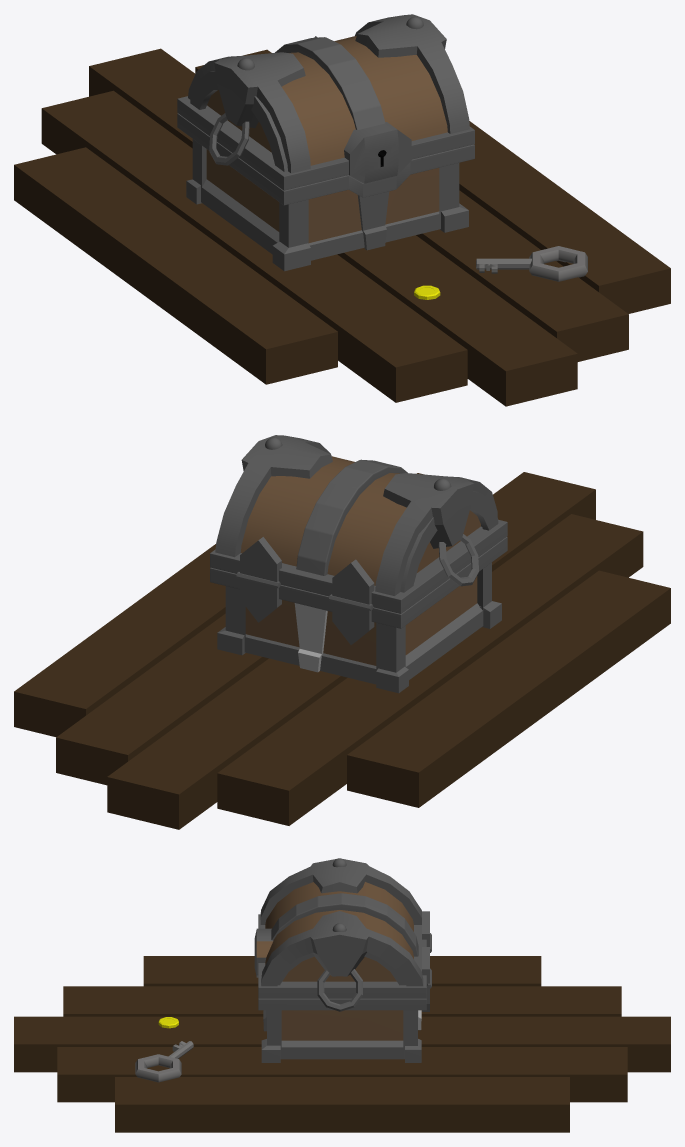
File: Treasure Chest.fbx
3 renders of one model, top to bottom at view 1: azimuth 30°, elevation 25°; view 2: azimuth 150°, elevation 25°; view 3: azimuth 270°, elevation 25°, orthographic. The views are drawn at different scales.
Parts seen in each view (by area): view 1: pCube17, pCube16, pCube15, pCube13, pCylinder3, pCube14, pCube4, pCube3, pCylinder11, pCylinder12, pCube12, pCube2 (+7 smaller); view 2: pCube17, pCube16, pCube15, pCube13, pCube14, pCylinder3, pCube4, pCylinder11, pCube3, pCylinder12, pCube12, pCylinder13 (+8 smaller); view 3: pCube13, pCube15, pCube14, pCube16, pCube17, pCylinder12, pCylinder3, pCube3, pCylinder11, pCube4, pCube12, pCylinder13 (+4 smaller).
Boxes of the visible parts, <box> form: pCube17: <box>14,147,337,384</box>; pCube16: <box>41,90,467,402</box>; pCube15: <box>89,48,577,406</box>; pCube13: <box>459,121,670,313</box>; pCylinder3: <box>207,36,447,183</box>; pCube14: <box>195,49,628,361</box>; pCube4: <box>192,139,459,260</box>; pCube3: <box>206,149,439,242</box>; pCylinder11: <box>188,52,310,173</box>; pCylinder12: <box>355,14,469,133</box>; pCube12: <box>177,96,474,190</box>; pCube2: <box>177,113,474,205</box>; pCube17: <box>347,570,670,807</box>; pCube16: <box>217,514,643,825</box>; pCube15: <box>107,472,595,829</box>; pCube13: <box>14,544,225,737</box>; pCube14: <box>56,473,424,785</box>; pCylinder3: <box>240,456,480,585</box>; pCube4: <box>225,562,491,684</box>; pCylinder11: <box>375,473,497,595</box>; pCube3: <box>245,576,477,665</box>; pCylinder12: <box>215,435,332,557</box>; pCube12: <box>210,519,507,613</box>; pCylinder13: <box>296,459,407,575</box>; pCube13: <box>115,1077,569,1132</box>; pCube15: <box>14,1016,670,1072</box>; pCube14: <box>57,1047,627,1102</box>; pCube16: <box>63,986,621,1016</box>; pCube17: <box>143,956,541,986</box>; pCylinder12: <box>261,911,423,986</box>; pCylinder3: <box>254,882,413,981</box>; pCube3: <box>281,1010,403,1040</box>; pCylinder11: <box>260,859,421,924</box>; pCube4: <box>267,1010,417,1059</box>; pCube12: <box>258,914,426,998</box>; pCylinder13: <box>271,893,418,956</box>.
Bounding box in the file's own units: 15.67 × 8.12 × 29.26.
